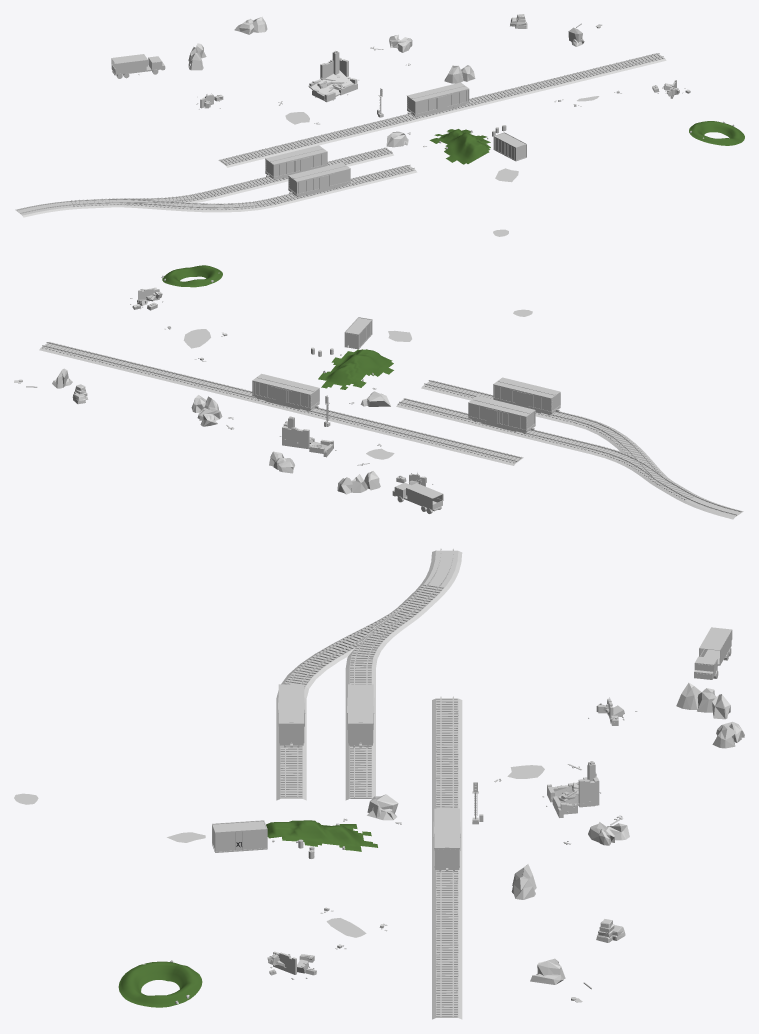
Rendered from outdoor_32.glb.
3 renders of one model, top to bottom at view 1: azimuth 30°, elevation 25°; view 2: azimuth 150°, elevation 25°; view 3: azimuth 270°, elevation 25°, orthographic. The views are drawn at different scales.
Visible parts, largest first — view 1: gas_station_town; view 2: gas_station_town; view 3: gas_station_town.
Boxes of the visible parts, box(x1,y1,x2,y2) form: gas_station_town: box(15, 14, 744, 236); gas_station_town: box(14, 265, 743, 519); gas_station_town: box(14, 548, 744, 1019).
Bounding box in the file's own units: 128 × 9.15 × 84.58.
3 materials, 2 textured.
